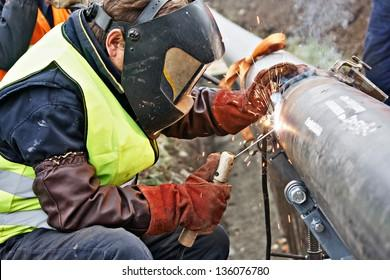gloves: (134, 151, 234, 236), (211, 60, 298, 137)
